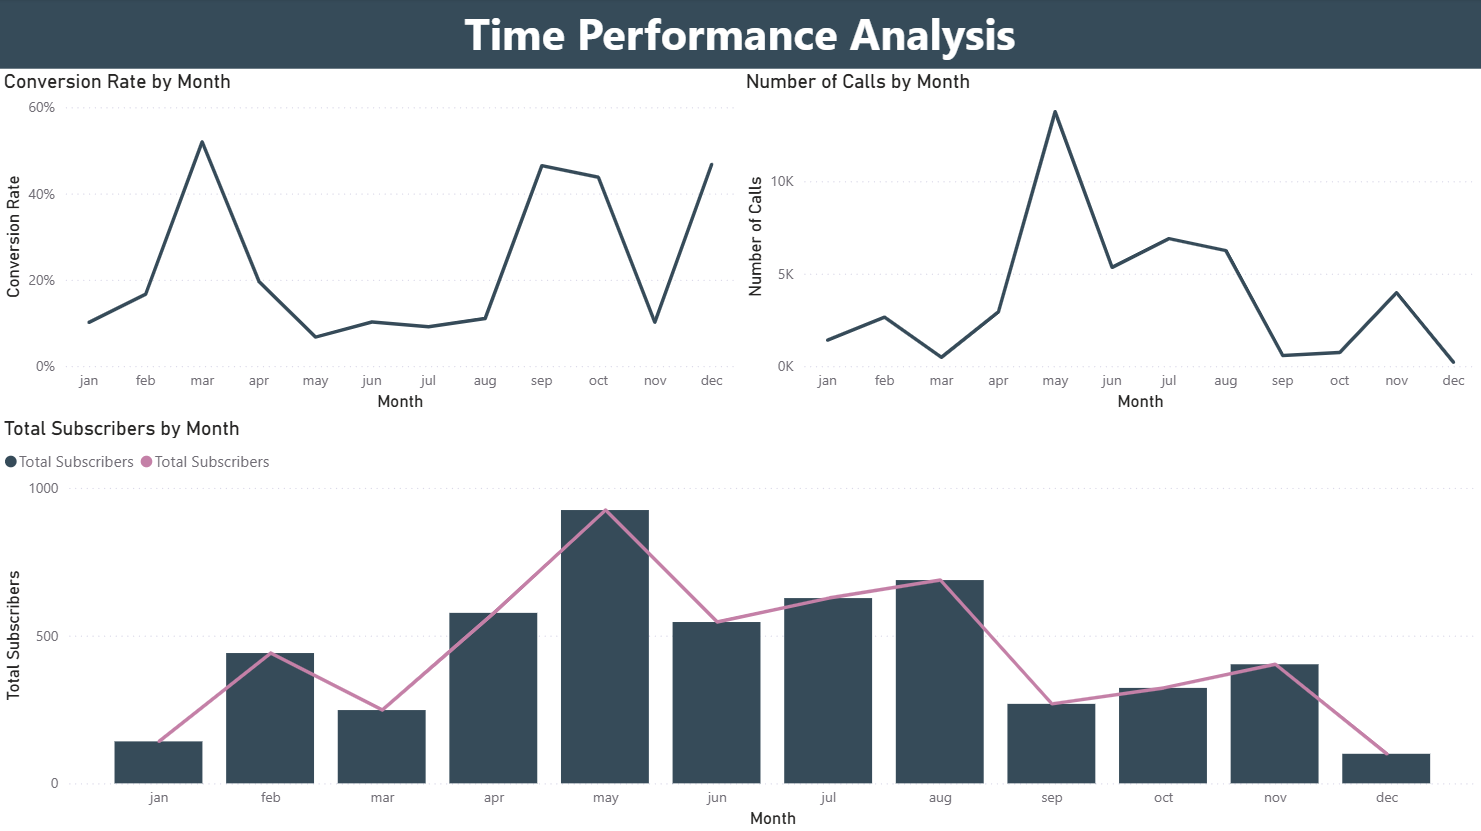

The page's visual inventory and layout, read from the dashboard file:
{"tool":"powerbi","page":{"name":"Time Performance Analysis","canvas":[1280,720],"ordinal":2},"visuals":[{"type":"textbox","box":[0,0,1280,61],"z":0},{"type":"lineChart","title":"Conversion Rate by Month","fields":{"Y":["bank_marketing_clean.Conversion Rate"],"Category":["bank_marketing_clean.last_contact_month"]},"box":[0,61,640,299.2],"z":1000},{"type":"lineStackedColumnComboChart","title":"Total Subscribers by Month","fields":{"Y":["bank_marketing_clean.Total Subscribers"],"Category":["bank_marketing_clean.last_contact_month"],"Y2":["bank_marketing_clean.Total Subscribers"]},"box":[0,360.2,1280,360.2],"z":2000},{"type":"lineChart","fields":{"Category":["bank_marketing_clean.last_contact_month"],"Y":["CountNonNull(bank_marketing_clean.campaign_intensity)"]},"box":[640,61.2,640,299.3],"z":3000}]}

Visuals, with their boxes in screenshot pixels (x1, y1, x2, y2), scaled from the page's 1280x720 canvas onto the 1481x831 screenshot:
textbox: 0,0,1480,70
"Conversion Rate by Month" lineChart: 0,70,740,416
"Total Subscribers by Month" lineStackedColumnComboChart: 0,416,1480,830
lineChart - bank_marketing_clean.last_contact_month x CountNonNull(bank_marketing_clean.campaign_intensity): 740,71,1480,416
